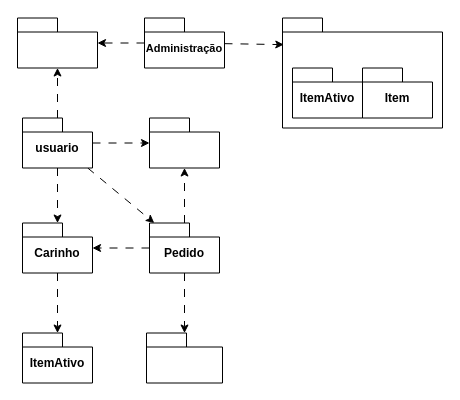
The diagram is 460 pixels wide and 400 high, and some of its shapes have lost their labels. Each missing label, with the box of its shape:
avaliacao: (148, 117, 220, 168)
Catalogo: (282, 17, 442, 128)
encomenda: (16, 17, 98, 68)
Sistema Pagamento: (146, 332, 222, 383)
